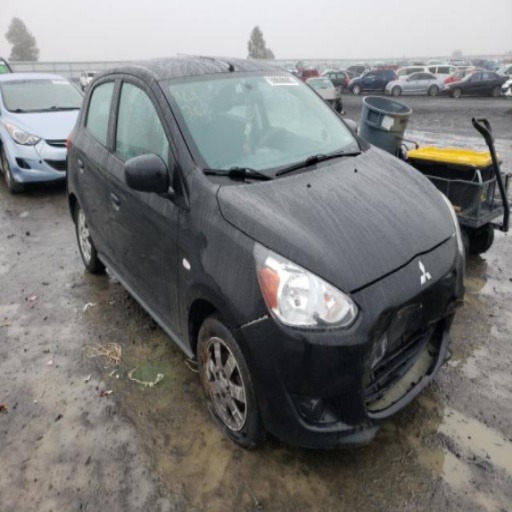dent: (364, 269, 464, 366)
rust: (200, 331, 217, 405)
